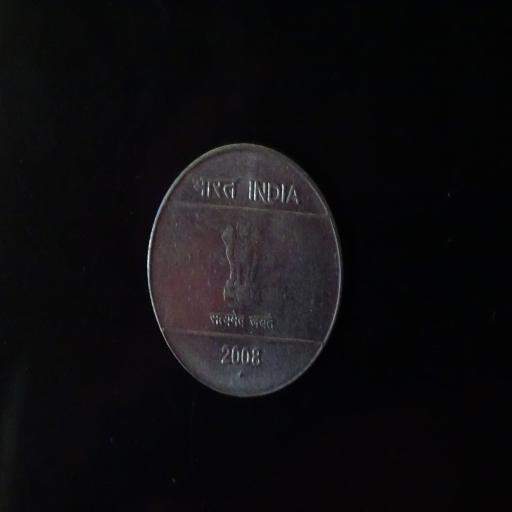rupee2: (143, 143, 348, 406)
